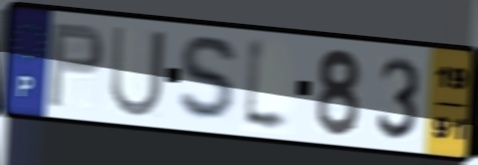3: (374, 54, 423, 142)
8: (314, 46, 365, 139)
L: (239, 33, 294, 139)
P: (45, 21, 107, 111)
S: (174, 33, 243, 127)
U: (108, 22, 168, 120)
